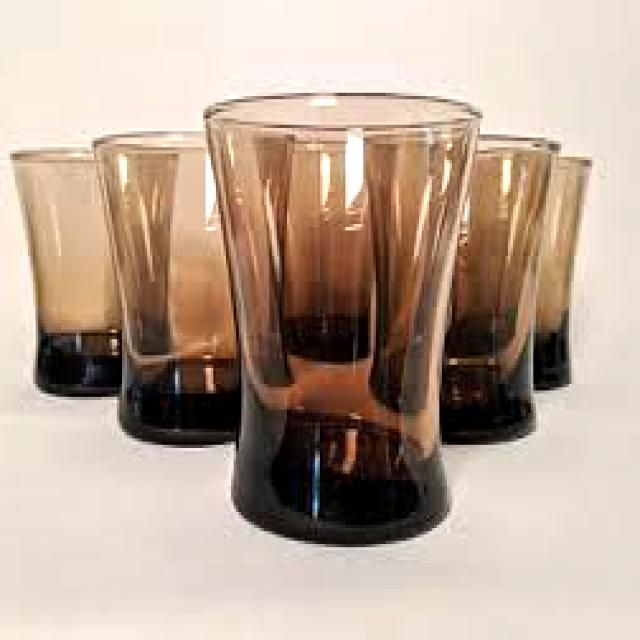Glass: (206, 93, 483, 546), (98, 136, 239, 445), (442, 134, 561, 443), (14, 154, 122, 397), (536, 157, 590, 389)
